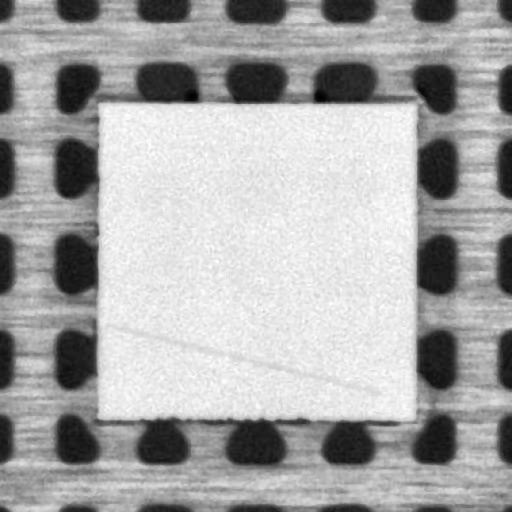DIE_CRACK: (107, 325, 378, 393)
